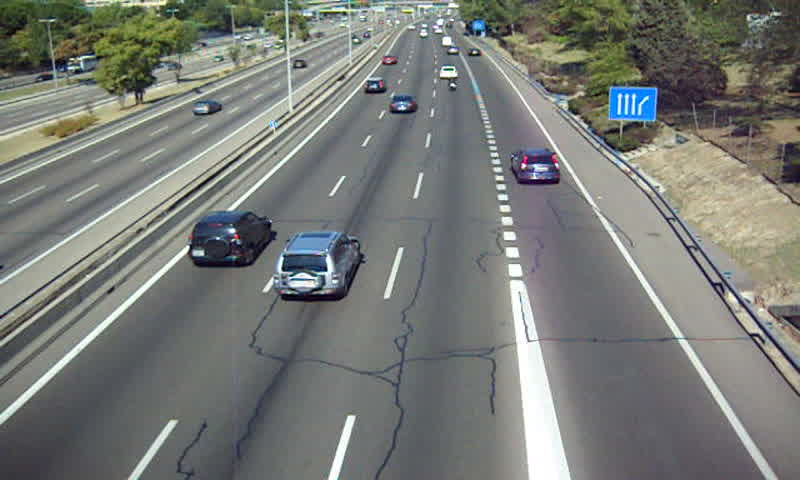car: (274, 232, 360, 300), (188, 211, 270, 268), (511, 151, 561, 182), (387, 94, 418, 115), (364, 76, 388, 95), (438, 64, 458, 78), (381, 54, 400, 66)
motorcycle: (448, 78, 459, 92)
